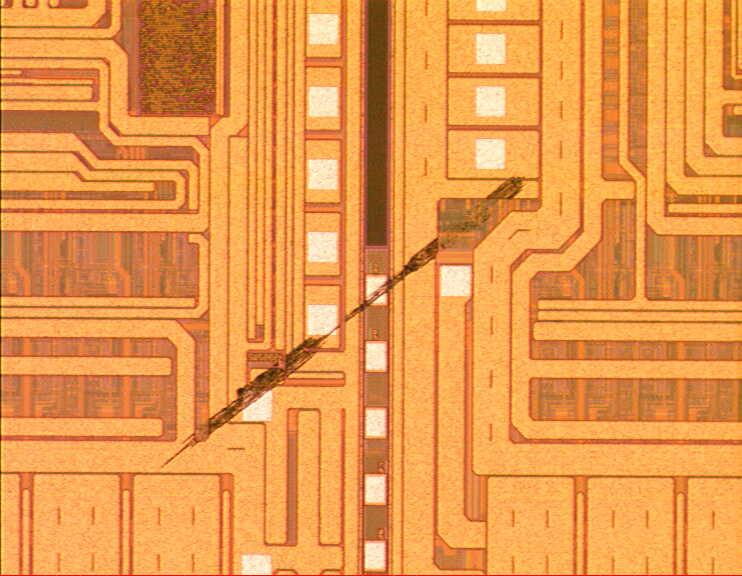SCRATCH: (124, 169, 533, 495)
